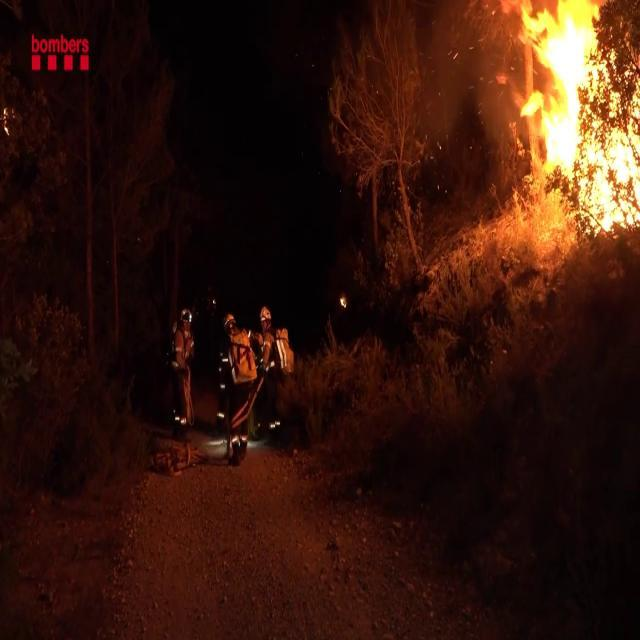Fire: (502, 2, 640, 230)
